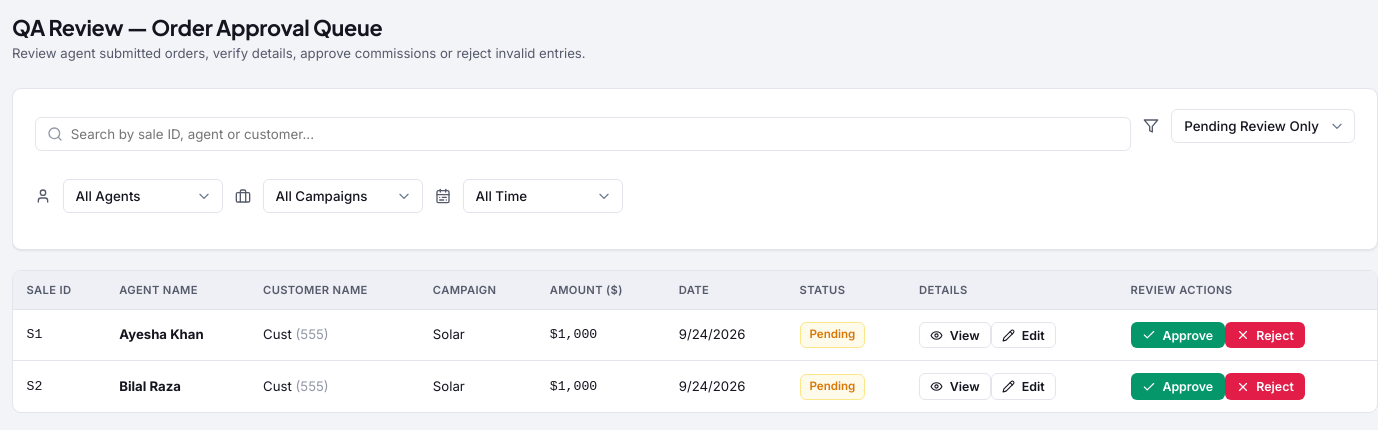
Test case: QASalesApproval agent filter › resets to showing everyone when "All Agents" is chosen again
Select "Ayesha Khan" in the dropdown named "filter by agent" at (143, 196), box top-left (63, 179), bottom-right (223, 213)
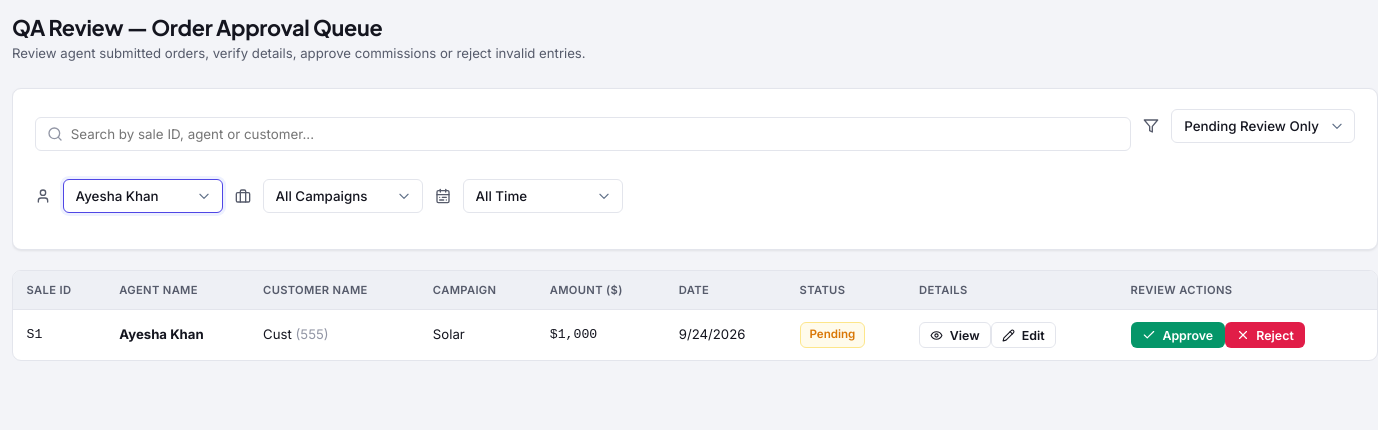
Select "All Agents" in the dropdown named "filter by agent" at (143, 196), box top-left (63, 179), bottom-right (223, 213)
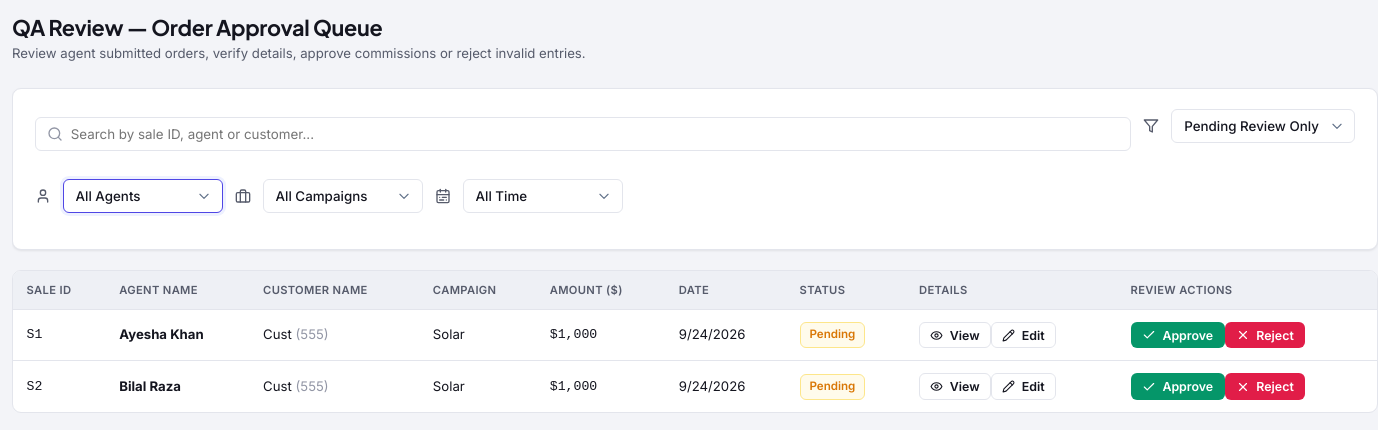
Expected: the text "S1" is shown, top-left (13, 309), bottom-right (106, 361)
Expected: the text "S2" is shown, top-left (13, 361), bottom-right (106, 412)
